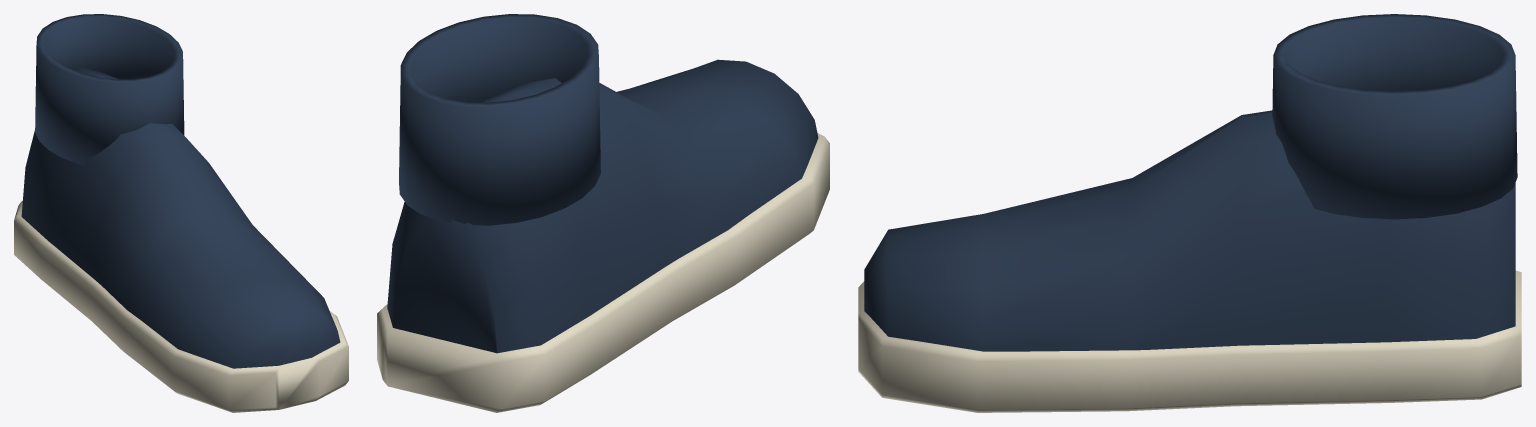
Rendered from SprintSemelleRight.fbx.
3 renders of one model, left to right at view 1: azimuth 30°, elevation 25°; view 2: azimuth 150°, elevation 25°; view 3: azimuth 270°, elevation 25°, orthographic. The views are drawn at different scales.
Parts seen in each view (by area): view 1: SprintSemelleRight-ShoeNavy, SprintSemelleRight-ShoeCream; view 2: SprintSemelleRight-ShoeNavy, SprintSemelleRight-ShoeCream; view 3: SprintSemelleRight-ShoeNavy, SprintSemelleRight-ShoeCream.
Part boxes in pixels (x1,y1,x2,y2): SprintSemelleRight-ShoeNavy: (21, 14, 340, 368); SprintSemelleRight-ShoeCream: (14, 200, 348, 412); SprintSemelleRight-ShoeNavy: (387, 14, 818, 353); SprintSemelleRight-ShoeCream: (377, 133, 829, 412); SprintSemelleRight-ShoeNavy: (864, 14, 1517, 351); SprintSemelleRight-ShoeCream: (858, 270, 1521, 412).
Size of the model in its own units: 13.4 by 17 by 33.4.
